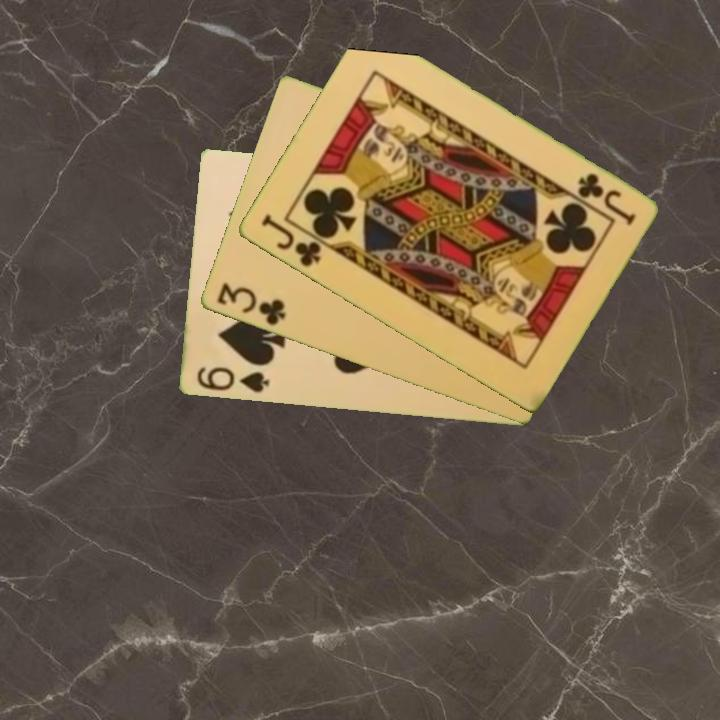3c: (213, 278, 288, 329)
6s: (193, 364, 272, 396)
Jc: (257, 210, 324, 270), (573, 169, 638, 229)
